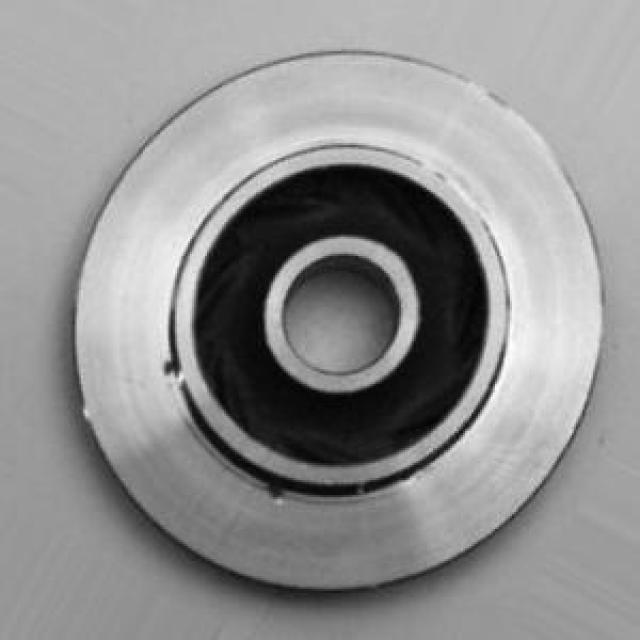Defect: (154, 353, 188, 389), (263, 468, 291, 511)
